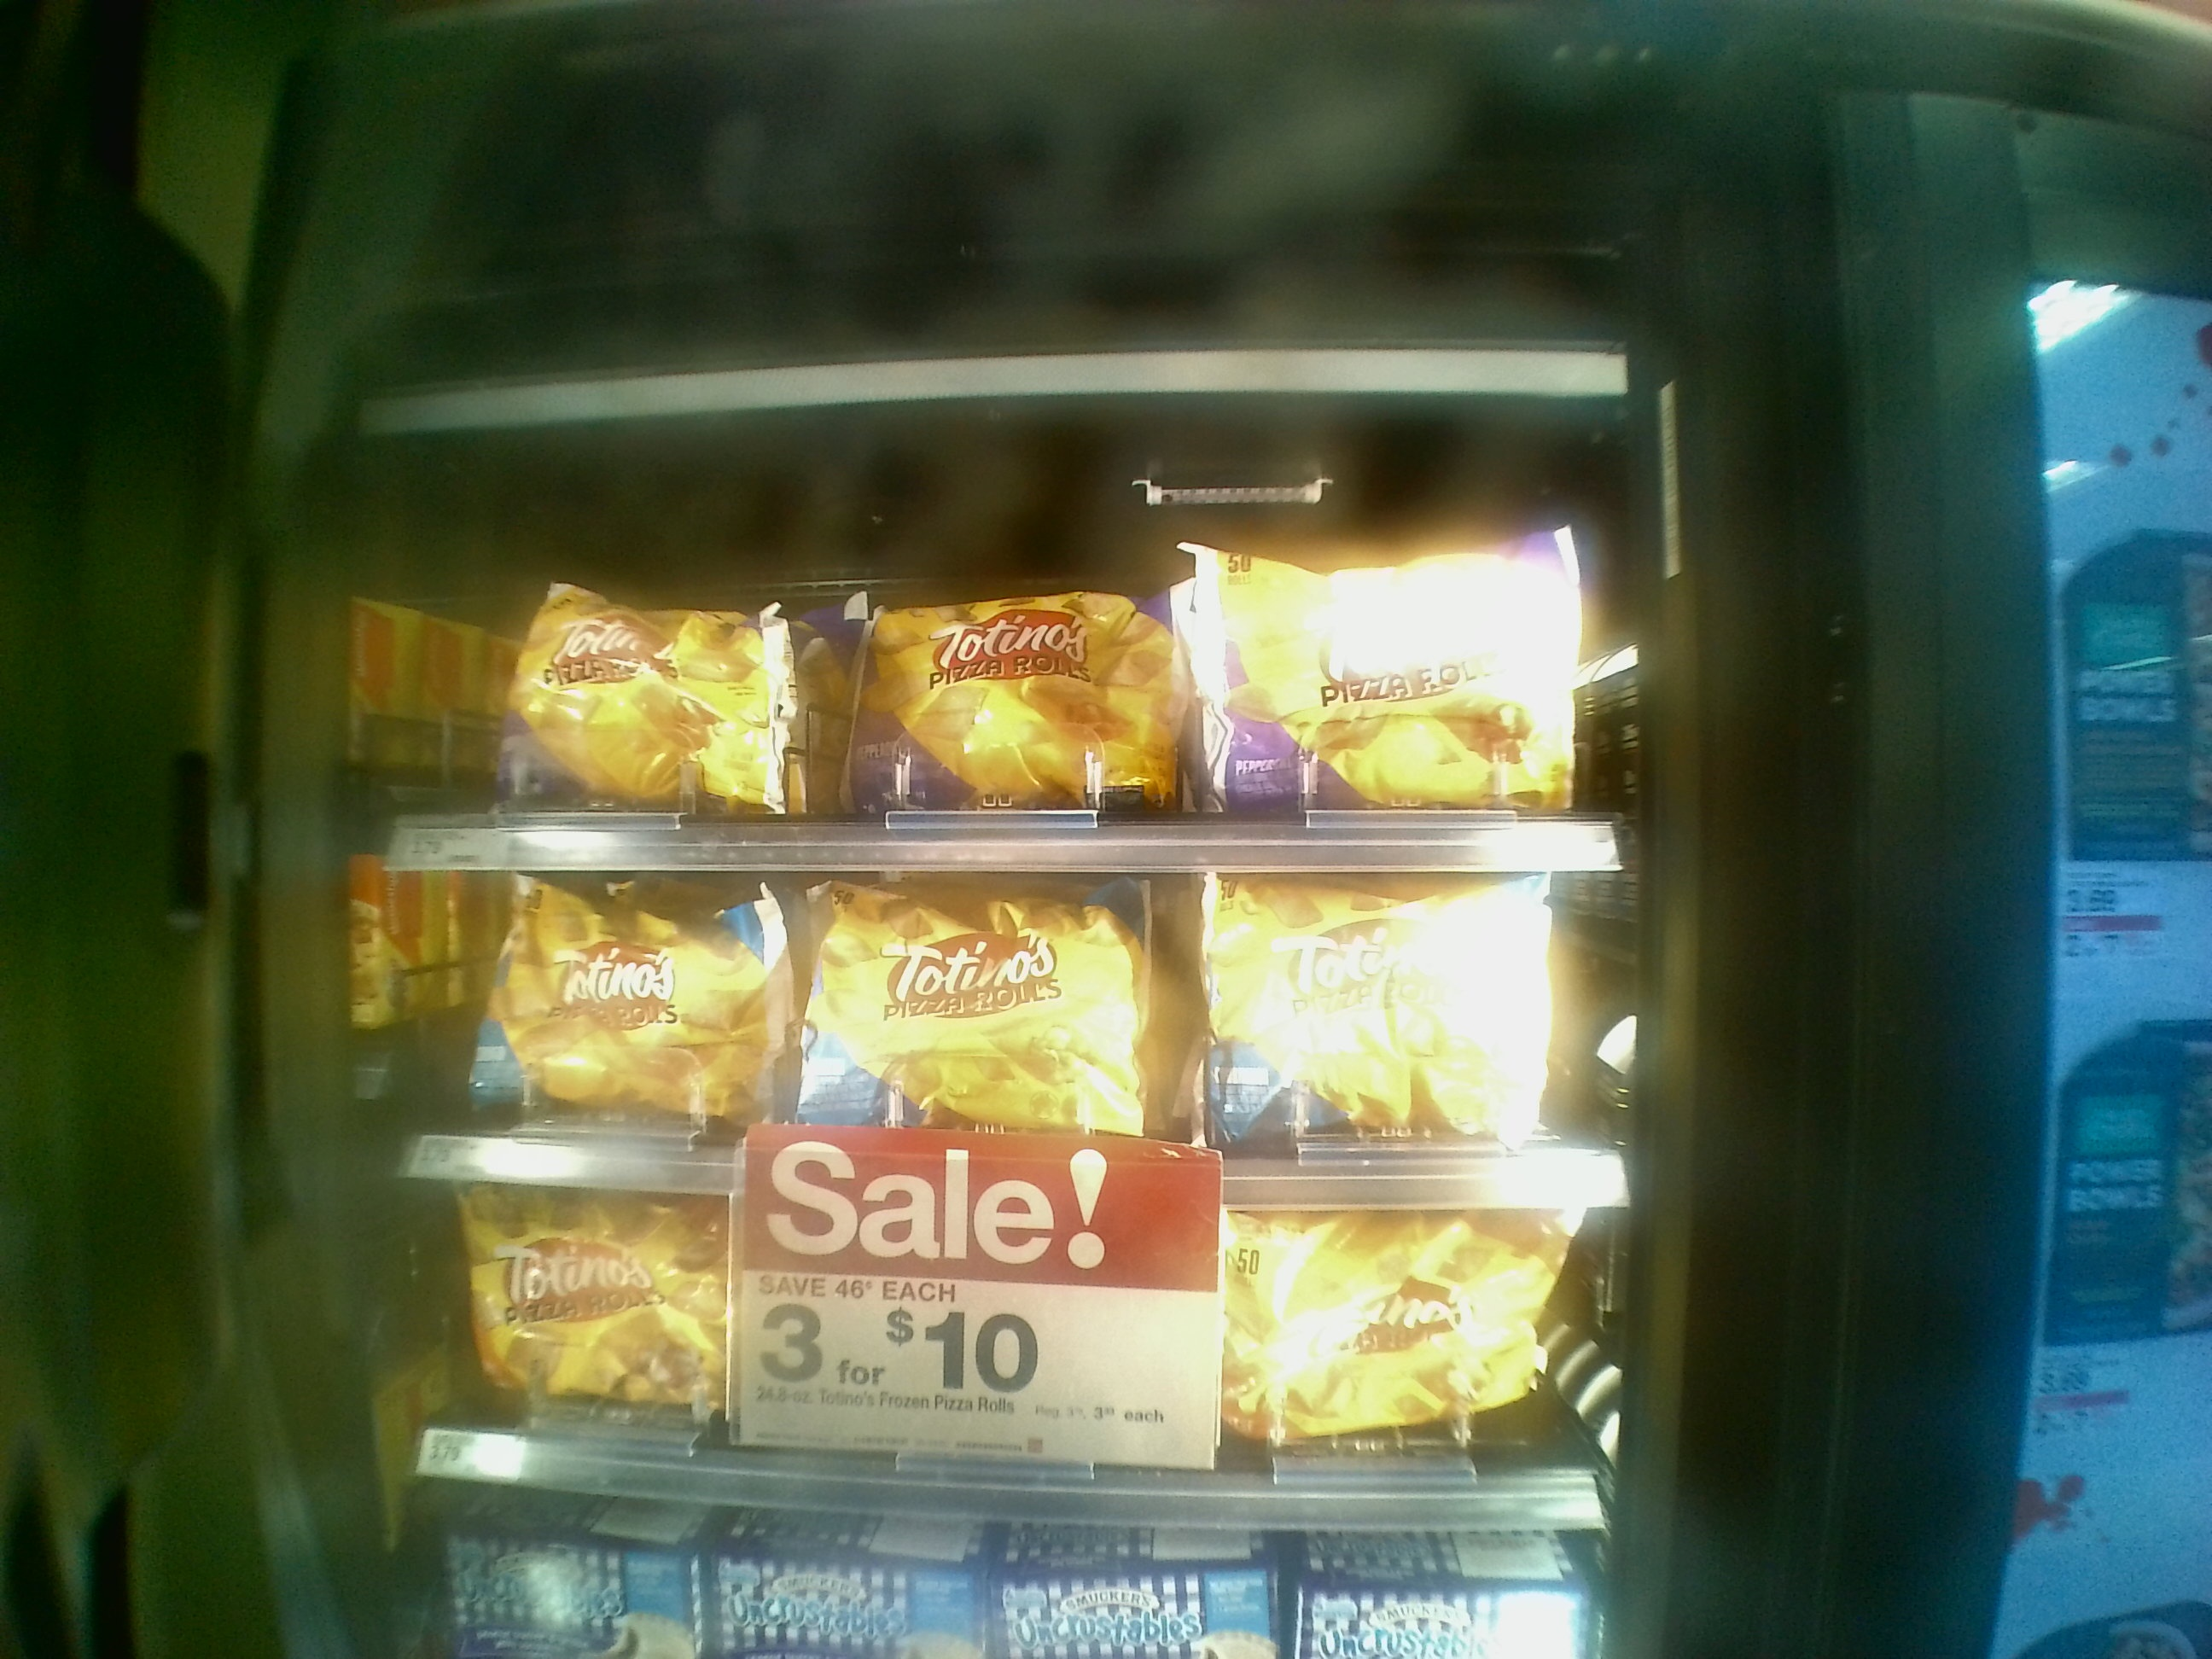shelf: (340, 443, 1642, 870), (340, 861, 1627, 1220), (350, 1188, 1625, 1544)
